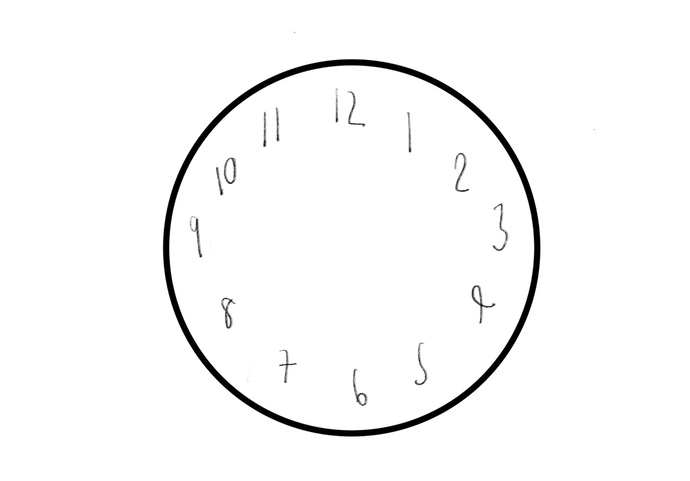eight: (215, 291, 241, 332)
eleven: (255, 104, 284, 149)
five: (409, 337, 432, 388)
four: (464, 279, 501, 325)
nine: (184, 213, 210, 259)
one: (399, 109, 416, 156)
seven: (269, 345, 299, 384)
six: (349, 362, 371, 414)
ten: (207, 156, 243, 195)
three: (491, 195, 511, 257)
twelve: (330, 82, 368, 131)
two: (448, 151, 472, 195)
